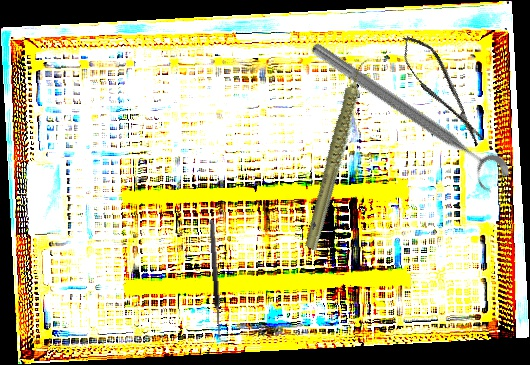Fixation Ring: (299, 35, 515, 199)
Handpiece: (268, 57, 410, 252)
Hook Surgical: (208, 219, 229, 343)
Micro Scissor: (393, 27, 492, 154)
